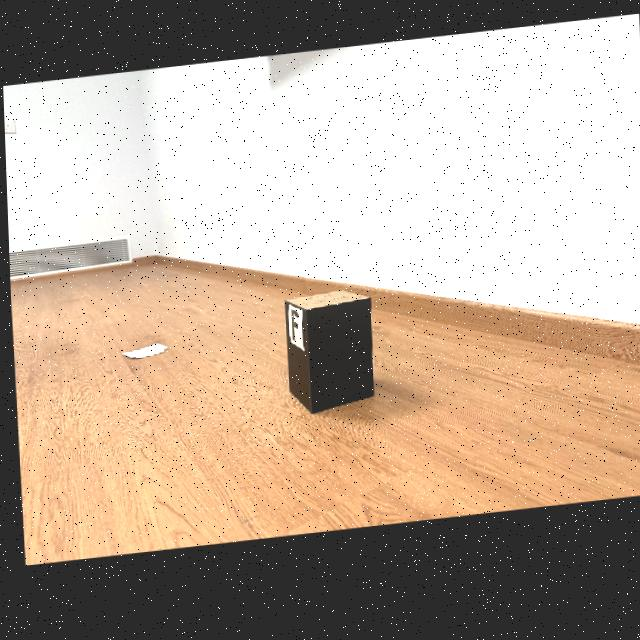F: (288, 315, 295, 346)
